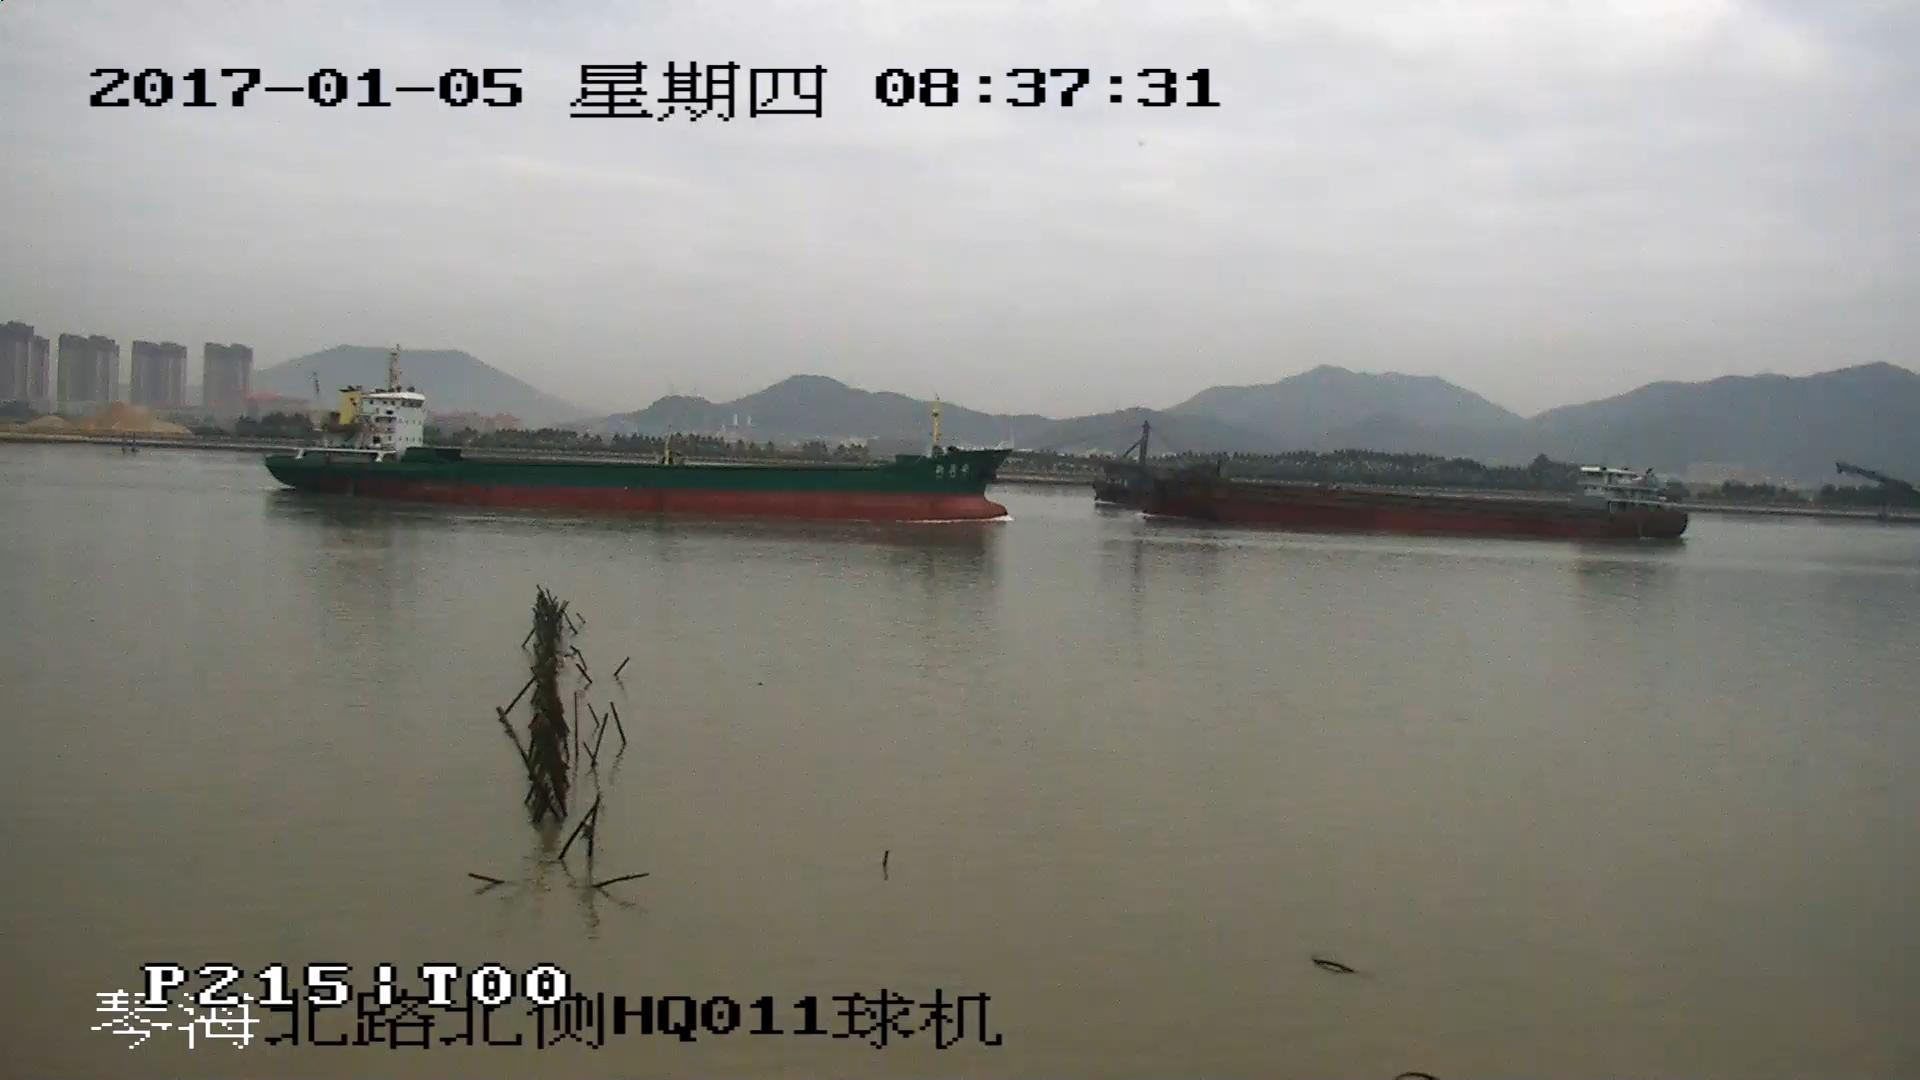bulk cargo carrier: (1041, 433, 1684, 543)
general cargo ship: (267, 355, 1010, 522)
